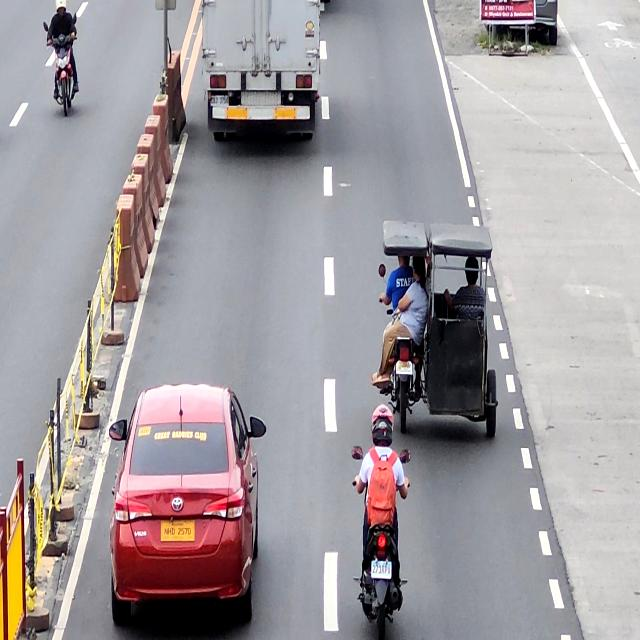Car: (108, 384, 265, 627)
License-Plate: (160, 521, 194, 542), (369, 559, 392, 580), (210, 95, 229, 106)
Motorcycle: (351, 442, 412, 640)
Tricycle: (379, 216, 498, 444)
Truck: (200, 0, 324, 146)
